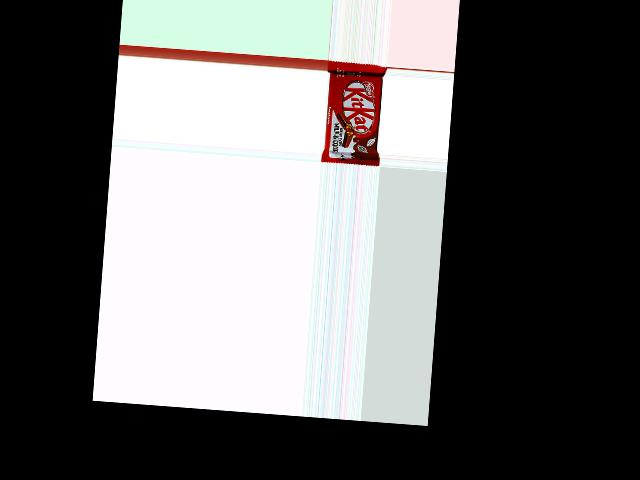chocolate: (320, 61, 387, 167)
